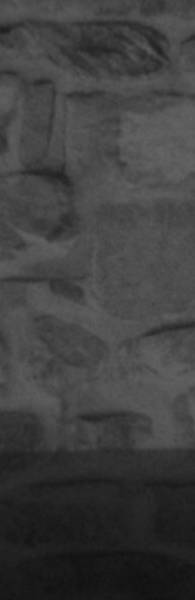water: (0, 451, 195, 600)
